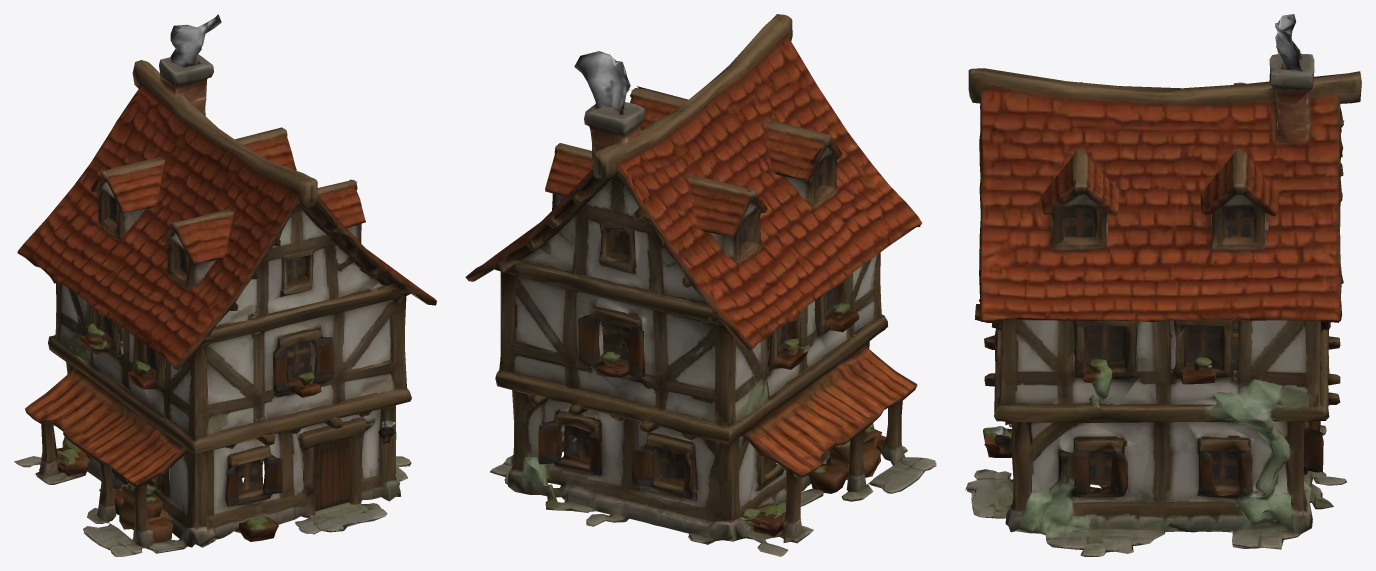
File: house_a.glb
3 views of the same model, side by side, from view 1: azimuth 30°, elevation 25°; view 2: azimuth 150°, elevation 25°; view 3: azimuth 270°, elevation 25° (orthographic). The views are drawn at different scales.
Parts seen in each view (by area): view 1: geometry_0; view 2: geometry_0; view 3: geometry_0.
Boxes of the visible parts, x1,y1,x2,y2 form: geometry_0: (14, 14, 436, 556); geometry_0: (465, 14, 936, 556); geometry_0: (965, 14, 1361, 556).
Bounding box in the file's own units: 0.8071 × 0.9924 × 0.762.
Materials: 1 (1 with a texture image).
